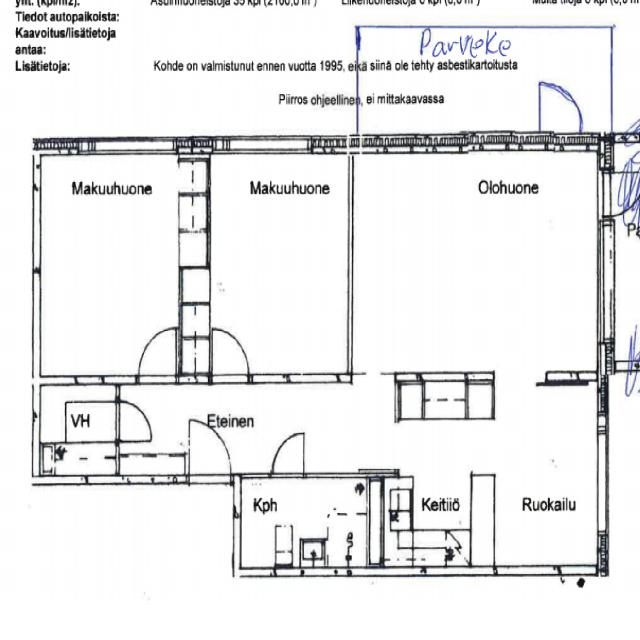door: (539, 83, 583, 155), (189, 421, 230, 484), (212, 325, 250, 379), (139, 325, 176, 379), (358, 423, 399, 470), (116, 401, 152, 442), (273, 435, 304, 479)
